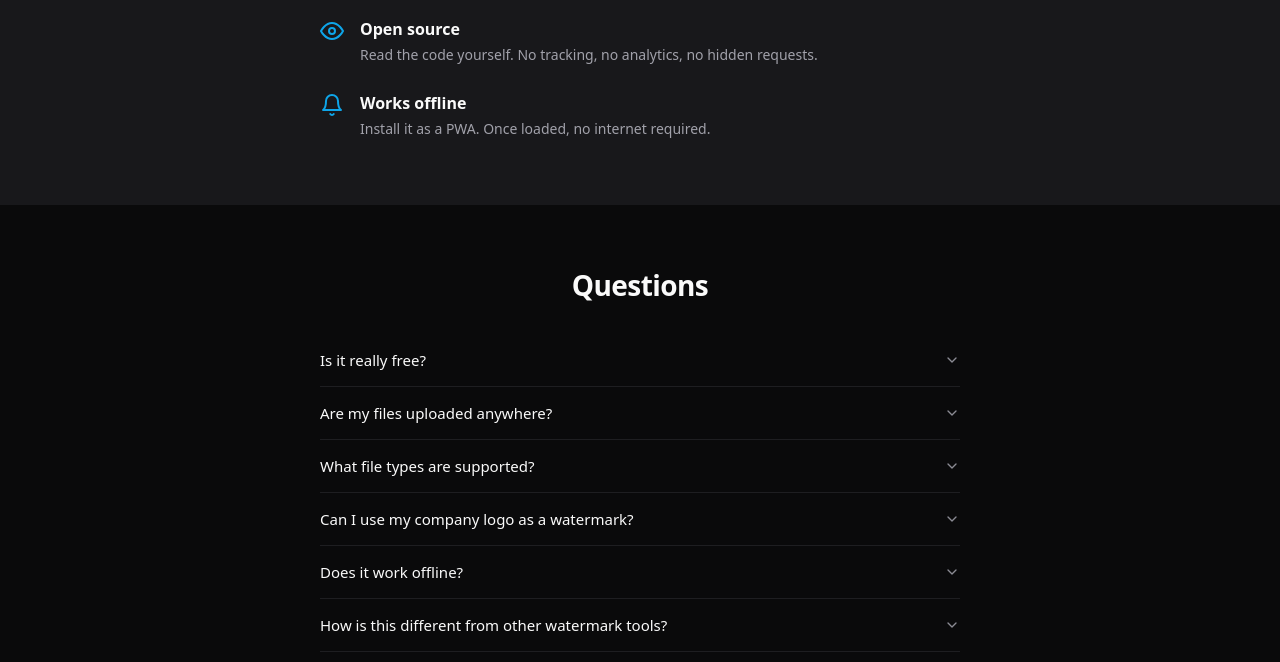
LandingPage › toggles FAQ accordion open and closed
The image size is (1280, 662).
(page scrolled)
Expected: the text "completely free" is not shown
Click the button "Is it really free?" at (373, 360), box [320,334,960,386]
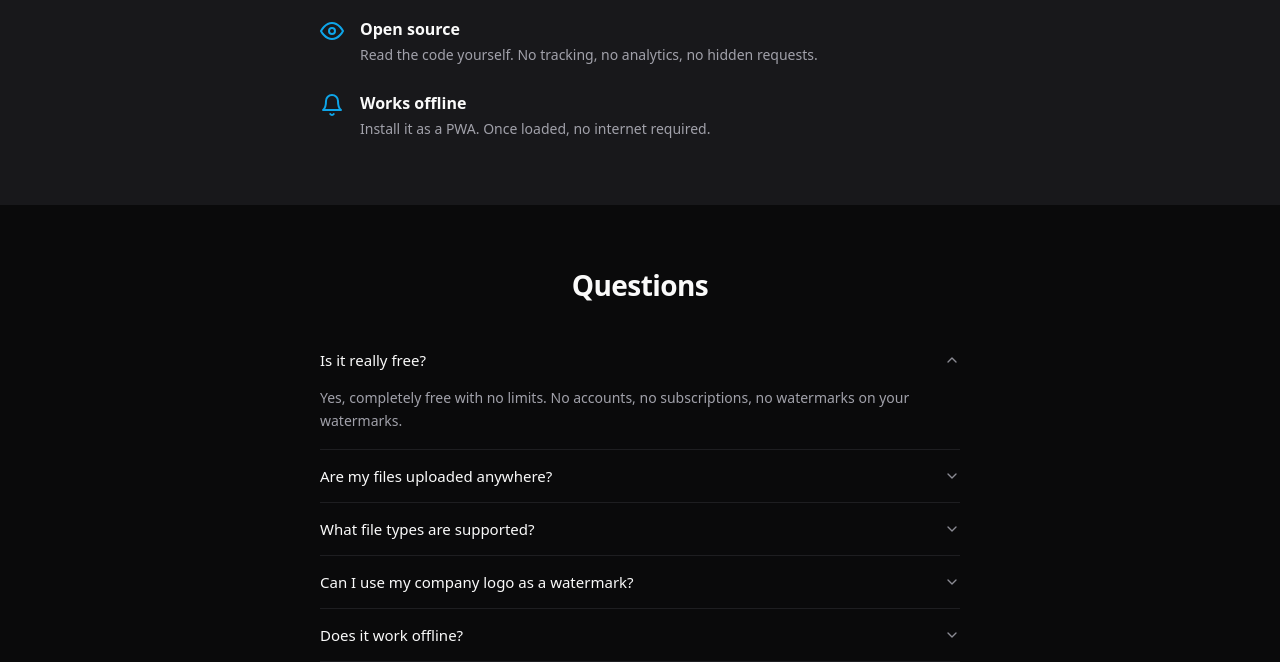
Now the text "completely free" is shown, box [320,388,909,430]
Click the button "Is it really free?" at (373, 360), box [320,334,960,386]
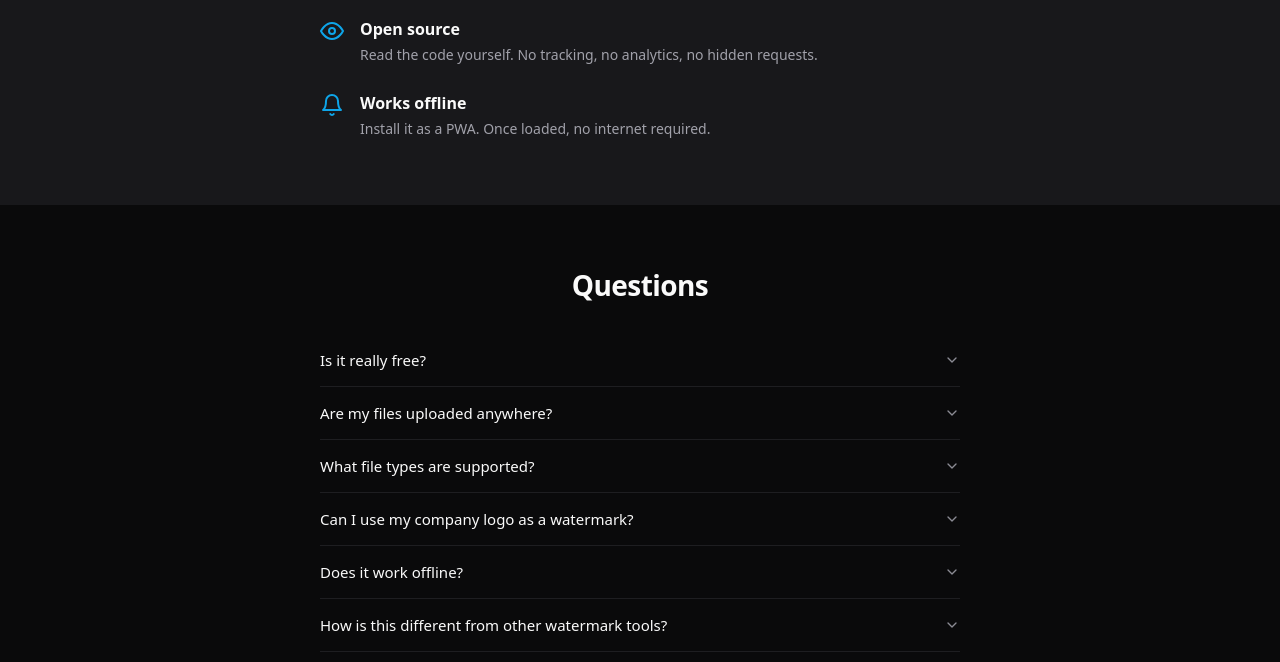
Now the text "completely free" is gone
